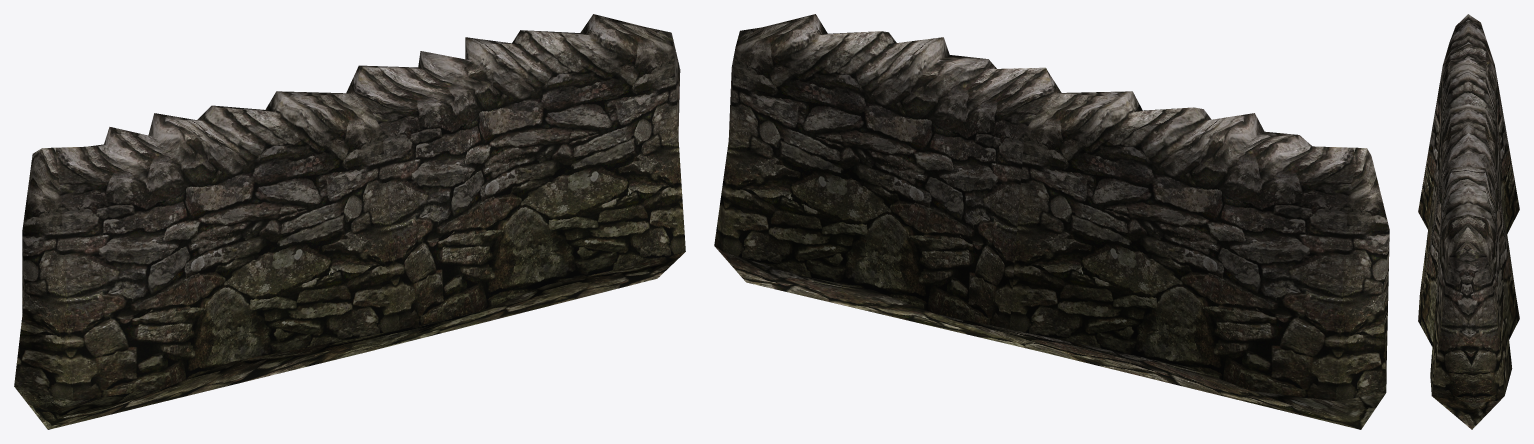
File: SmallStone.dae
3 renders of one model, left to right at view 1: azimuth 30°, elevation 25°; view 2: azimuth 150°, elevation 25°; view 3: azimuth 270°, elevation 25°, orthographic. The views are drawn at different scales.
Parts seen in each view (by area): view 1: SmallStone1; view 2: SmallStone1; view 3: SmallStone1.
Part boxes in pixels (x1=…): SmallStone1: x1=14, y1=14, x2=685, y2=429; SmallStone1: x1=714, y1=14, x2=1389, y2=429; SmallStone1: x1=1418, y1=14, x2=1519, y2=429.
Size of the model in its own units: 4.33 by 1.78 by 0.8099.
1 material, 1 textured.
